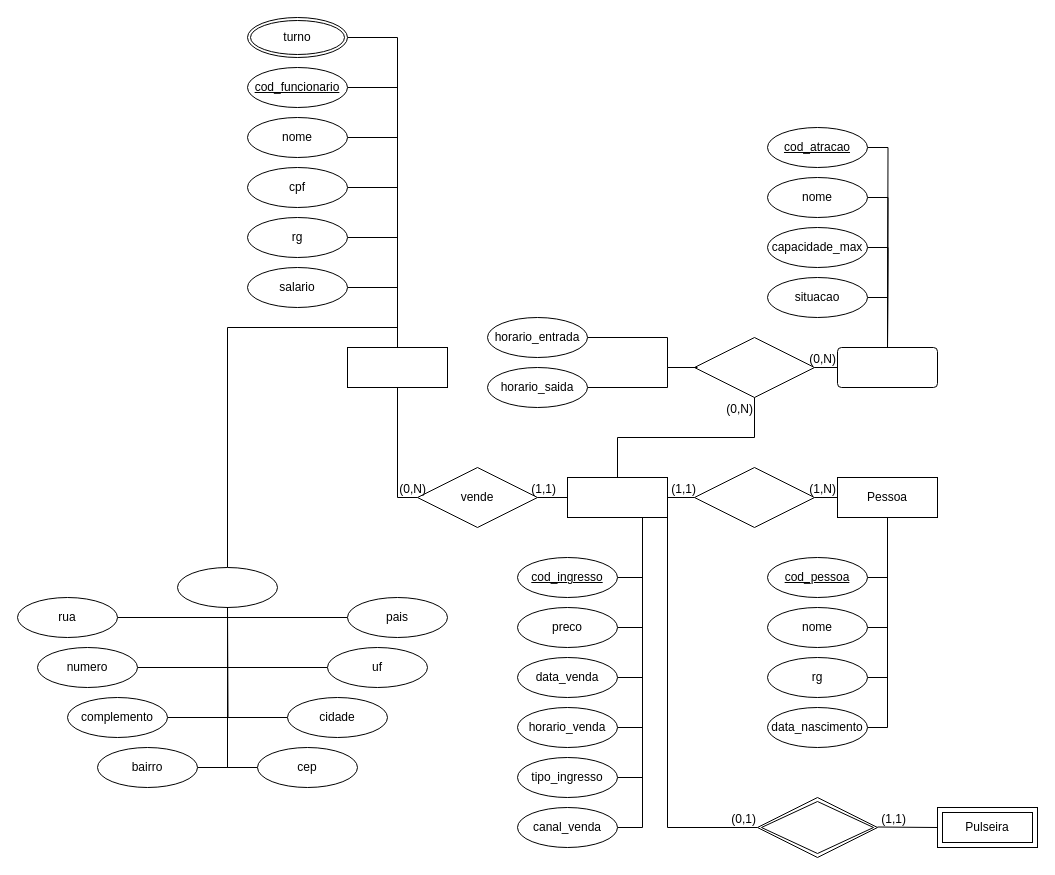
This 1055x875 diagram has some shape labels left out. The box of each missing label's shape, as (x1, y1, x2, y2) in pixels:
Atracao: (836, 346, 938, 388)
compra: (694, 466, 814, 528)
endereco: (176, 566, 278, 608)
Funcionario: (346, 346, 448, 388)
gera: (756, 796, 878, 858)
Ingresso: (566, 476, 668, 518)
visita: (694, 336, 814, 398)
